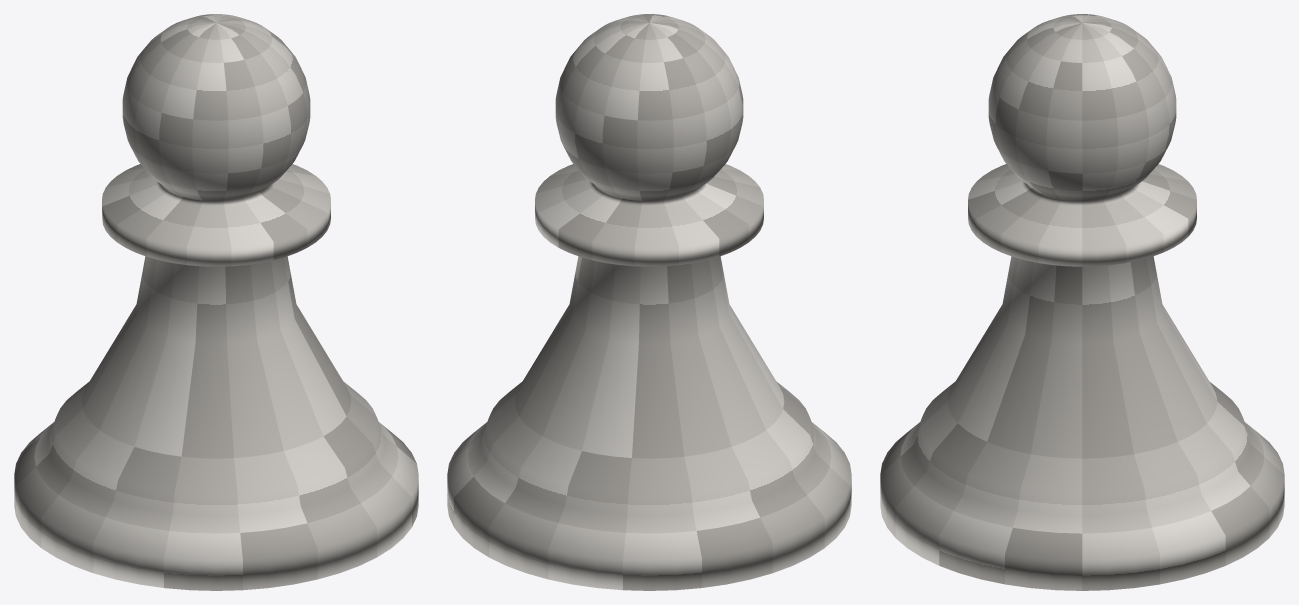
Rendered from pawn.glb.
The picture shows the model from 3 angles, left to right: view 1: azimuth 30°, elevation 25°; view 2: azimuth 150°, elevation 25°; view 3: azimuth 270°, elevation 25°; orthographic projection.
Visible parts, largest first — view 1: split-part (×2); view 2: split-part (×2); view 3: split-part (×2).
Part boxes in pixels (x1,y1,x2,y2): split-part (×2): (14,14,418,590); split-part (×2): (447,14,851,590); split-part (×2): (880,14,1284,590).
Size of the model in its own units: 22.2 by 29.23 by 22.2.
1 material, 1 textured.
